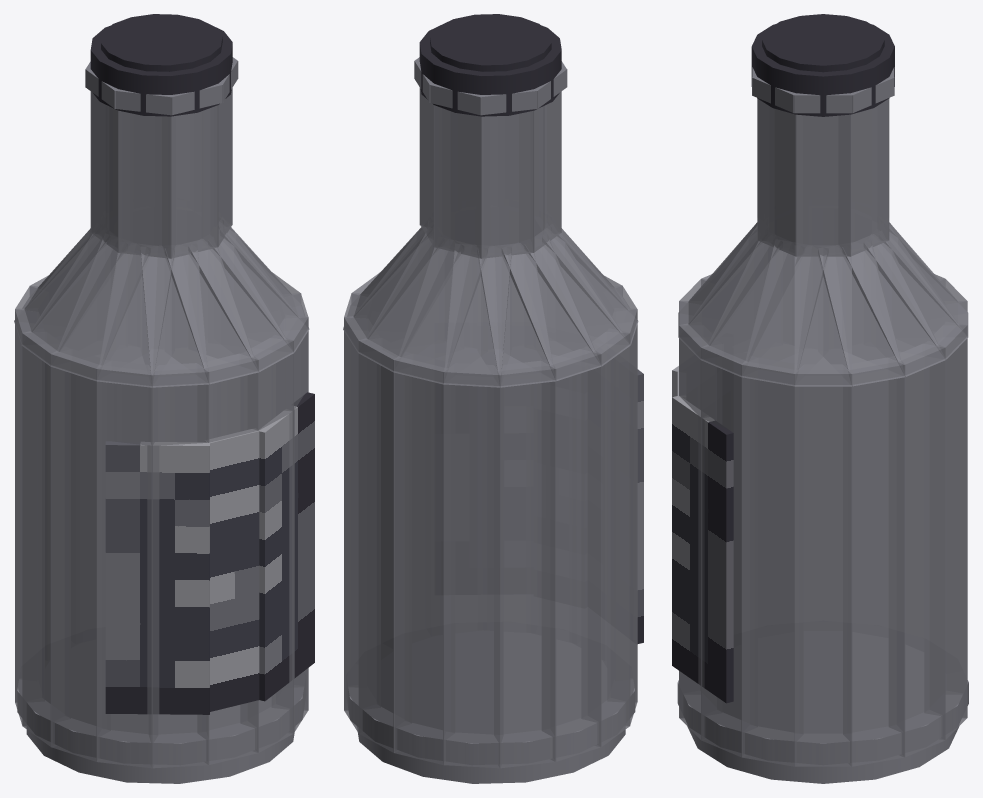
Rendered from CMU3DDrinkBottleWhiskeyDrinksExtraCloud.glb.
The picture shows the model from 3 angles, left to right: view 1: azimuth 30°, elevation 25°; view 2: azimuth 150°, elevation 25°; view 3: azimuth 270°, elevation 25°; orthographic projection.
Parts seen in each view (by area): view 1: source front label tangent 0, continuous hollow body wall 09, continuous hollow body wall 08, source front label tangent 2, source front label tangent 1, raised lower welt, continuous hollow body wall 10, continuous hollow body wall 07, continuous hollow body wall 11, smooth tapered shoulder sector 12, hollow bottle neck 06, smooth tapered shoulder sector 9 (+24 smaller); view 2: continuous hollow body wall 06, continuous hollow body wall 04, continuous hollow body wall 05, continuous hollow body wall 07, raised lower welt, continuous hollow body wall 03, continuous hollow body wall 08, continuous hollow body wall 02, continuous hollow body wall 09, smooth tapered shoulder sector 4, smooth tapered shoulder sector 7, hollow bottle neck 04 (+22 smaller); view 3: continuous hollow body wall 15, continuous hollow body wall 01, continuous hollow body wall 00, continuous hollow body wall 02, raised lower welt, continuous hollow body wall 03, source front label tangent 2, continuous hollow body wall 14, smooth tapered shoulder sector 1, smooth tapered shoulder sector 15, hollow bottle neck 01, smooth tapered shoulder sector 14 (+21 smaller).
Part boxes in pixels (left/top/right/bottom): source front label tangent 0: left=105, top=441, right=209, bottom=714; continuous hollow body wall 09: left=50, top=349, right=110, bottom=761; continuous hollow body wall 08: left=22, top=331, right=70, bottom=747; source front label tangent 2: left=259, top=392, right=314, bottom=701; source front label tangent 1: left=205, top=429, right=259, bottom=711; raised lower welt: left=17, top=640, right=304, bottom=765; continuous hollow body wall 10: left=96, top=361, right=157, bottom=768; continuous hollow body wall 07: left=15, top=309, right=44, bottom=725; continuous hollow body wall 11: left=149, top=363, right=209, bottom=768; smooth tapered shoulder sector 12: left=165, top=239, right=258, bottom=384; hollow bottle neck 06: left=118, top=111, right=175, bottom=258; smooth tapered shoulder sector 9: left=50, top=233, right=150, bottom=380; continuous hollow body wall 06: left=494, top=361, right=556, bottom=768; continuous hollow body wall 04: left=393, top=354, right=454, bottom=765; continuous hollow body wall 05: left=443, top=363, right=503, bottom=768; continuous hollow body wall 07: left=542, top=349, right=601, bottom=761; raised lower welt: left=348, top=631, right=635, bottom=765; continuous hollow body wall 03: left=359, top=338, right=411, bottom=752; continuous hollow body wall 08: left=581, top=331, right=630, bottom=746; continuous hollow body wall 02: left=344, top=316, right=380, bottom=733; continuous hollow body wall 09: left=607, top=308, right=637, bottom=726; smooth tapered shoulder sector 4: left=393, top=239, right=487, bottom=384; smooth tapered shoulder sector 7: left=502, top=233, right=601, bottom=381; hollow bottle neck 04: left=477, top=110, right=534, bottom=258; continuous hollow body wall 15: left=741, top=358, right=803, bottom=766; continuous hollow body wall 01: left=843, top=358, right=905, bottom=766; continuous hollow body wall 00: left=794, top=364, right=852, bottom=766; continuous hollow body wall 02: left=889, top=344, right=945, bottom=757; raised lower welt: left=677, top=631, right=968, bottom=765; continuous hollow body wall 03: left=924, top=323, right=967, bottom=739; source front label tangent 2: left=672, top=395, right=733, bottom=703; continuous hollow body wall 14: left=701, top=344, right=757, bottom=757; smooth tapered shoulder sector 1: left=818, top=239, right=904, bottom=386; smooth tapered shoulder sector 15: left=741, top=239, right=828, bottom=386; hollow bottle neck 01: left=795, top=114, right=850, bottom=256; smooth tapered shoulder sector 14: left=700, top=234, right=803, bottom=376.
Size of the model in its own units: 0.307 by 0.799 by 0.313.
7 materials, 3 textured.
